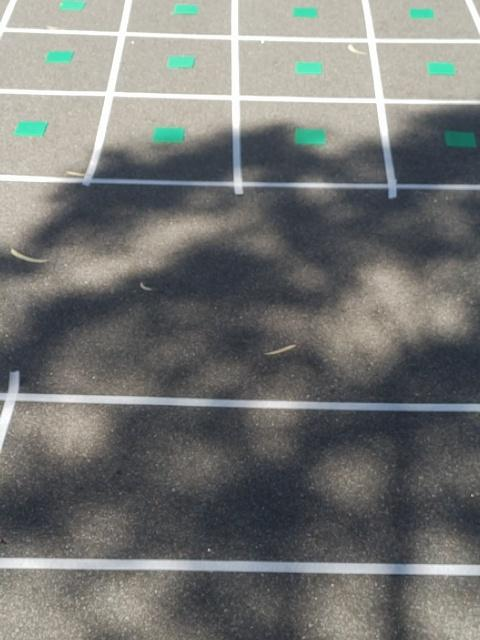weed: (152, 124, 186, 146), (13, 118, 48, 139), (442, 131, 476, 151), (293, 127, 324, 148), (423, 61, 456, 78), (42, 50, 77, 66), (294, 60, 322, 76), (172, 2, 201, 16), (291, 6, 320, 20), (166, 56, 196, 68), (408, 7, 432, 22), (57, 0, 88, 10)
